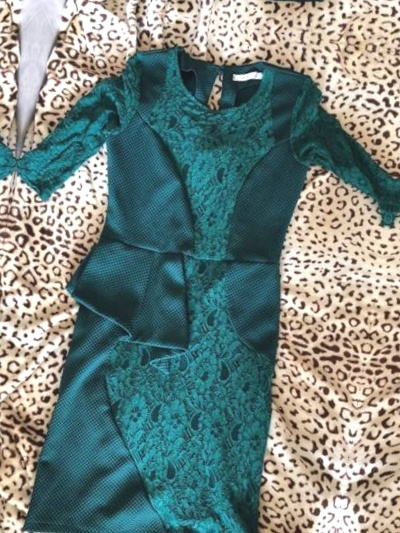Dress: (0, 3, 400, 533), (328, 64, 400, 533), (0, 0, 41, 533), (47, 0, 400, 46)
